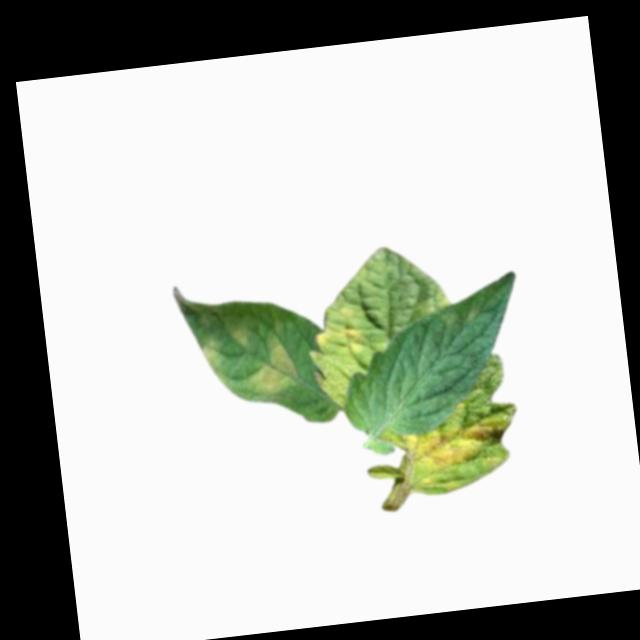Leaf_Mold: (372, 395, 523, 500), (240, 322, 300, 394), (308, 300, 368, 360)
